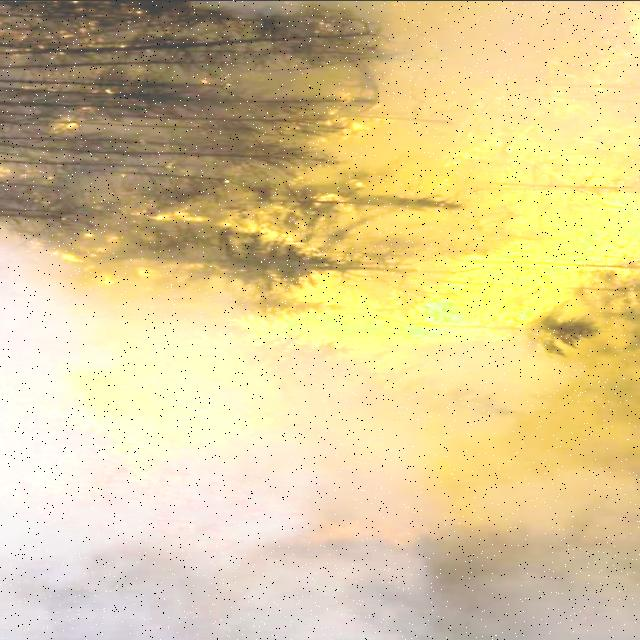api: (248, 289, 575, 341), (460, 197, 638, 279), (557, 42, 640, 188), (165, 203, 364, 251), (461, 97, 547, 192), (100, 402, 212, 441)
asap: (1, 551, 635, 640)
